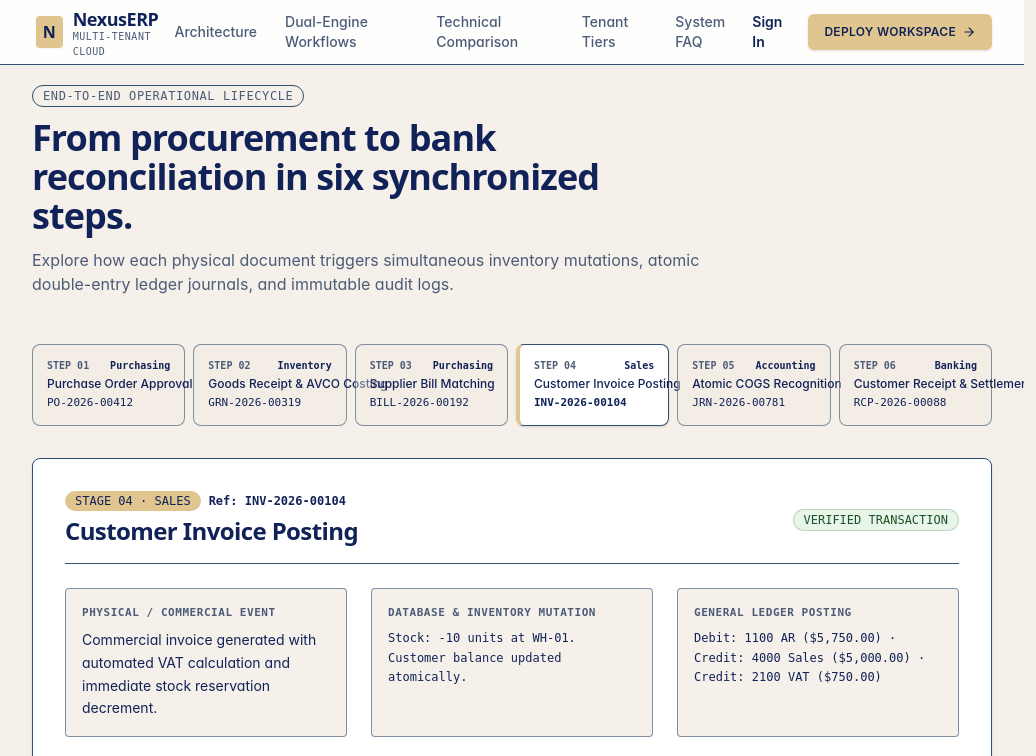
Test case: LandingPage (Public SaaS Marketing) › allows stepping through the workflow simulator
(page scrolled)
Note: Click on Goods Receipt step in simulator
Click the button "Goods Receipt & AVCO Costing".
click(270, 385)  # box [193,344,347,426]
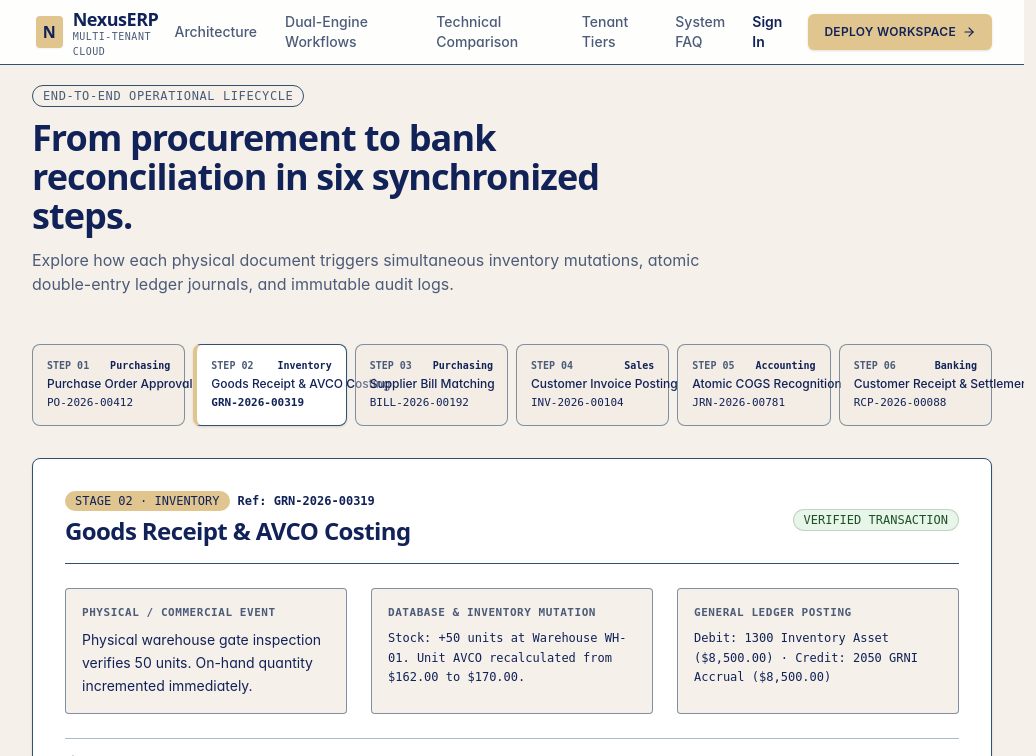
Result: the text "Physical warehouse gate inspection verifies 50 units" is shown at [82,631,321,694]
